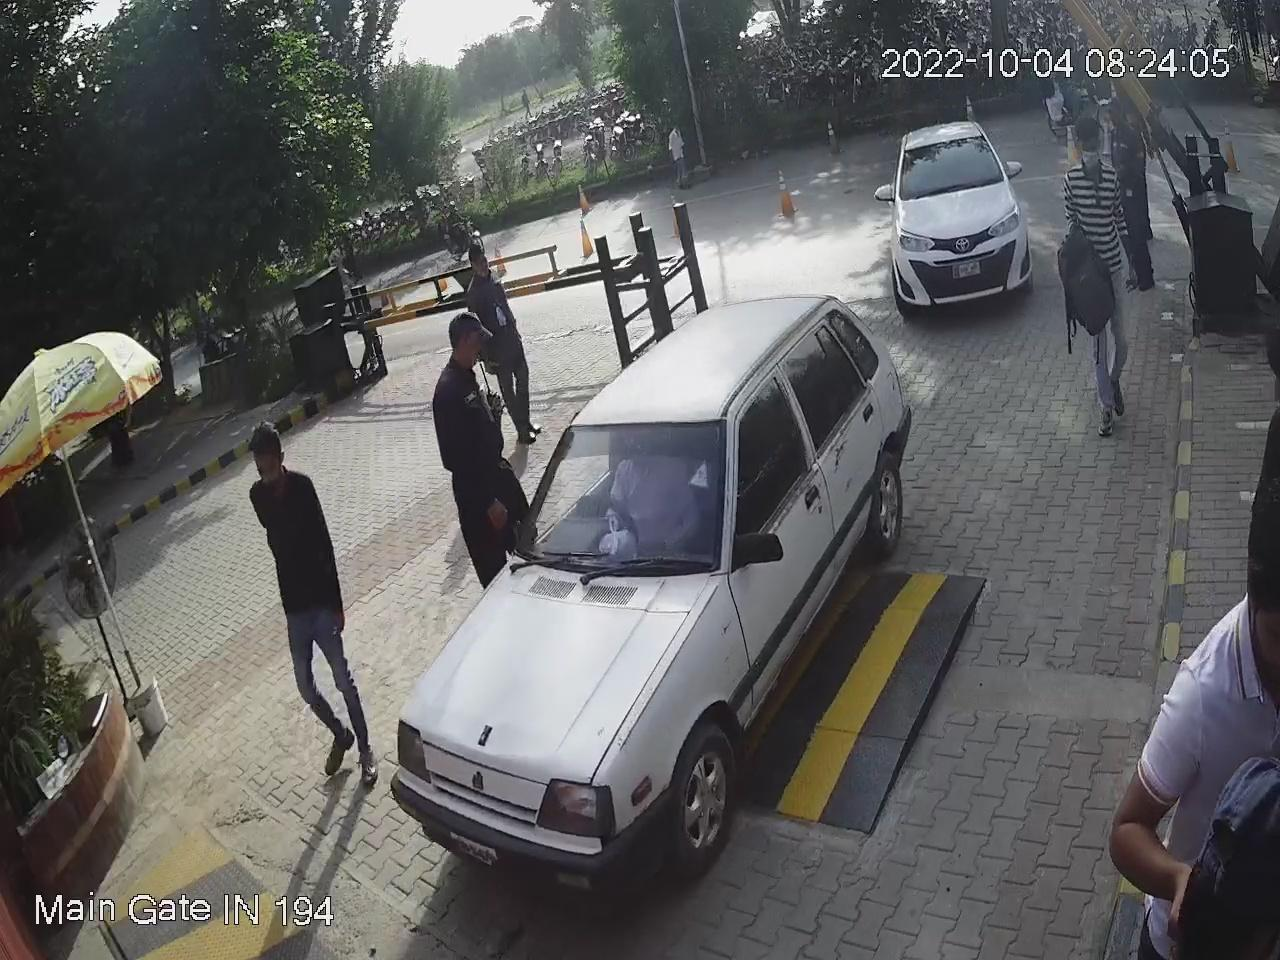windshield: (508, 410, 738, 570)
